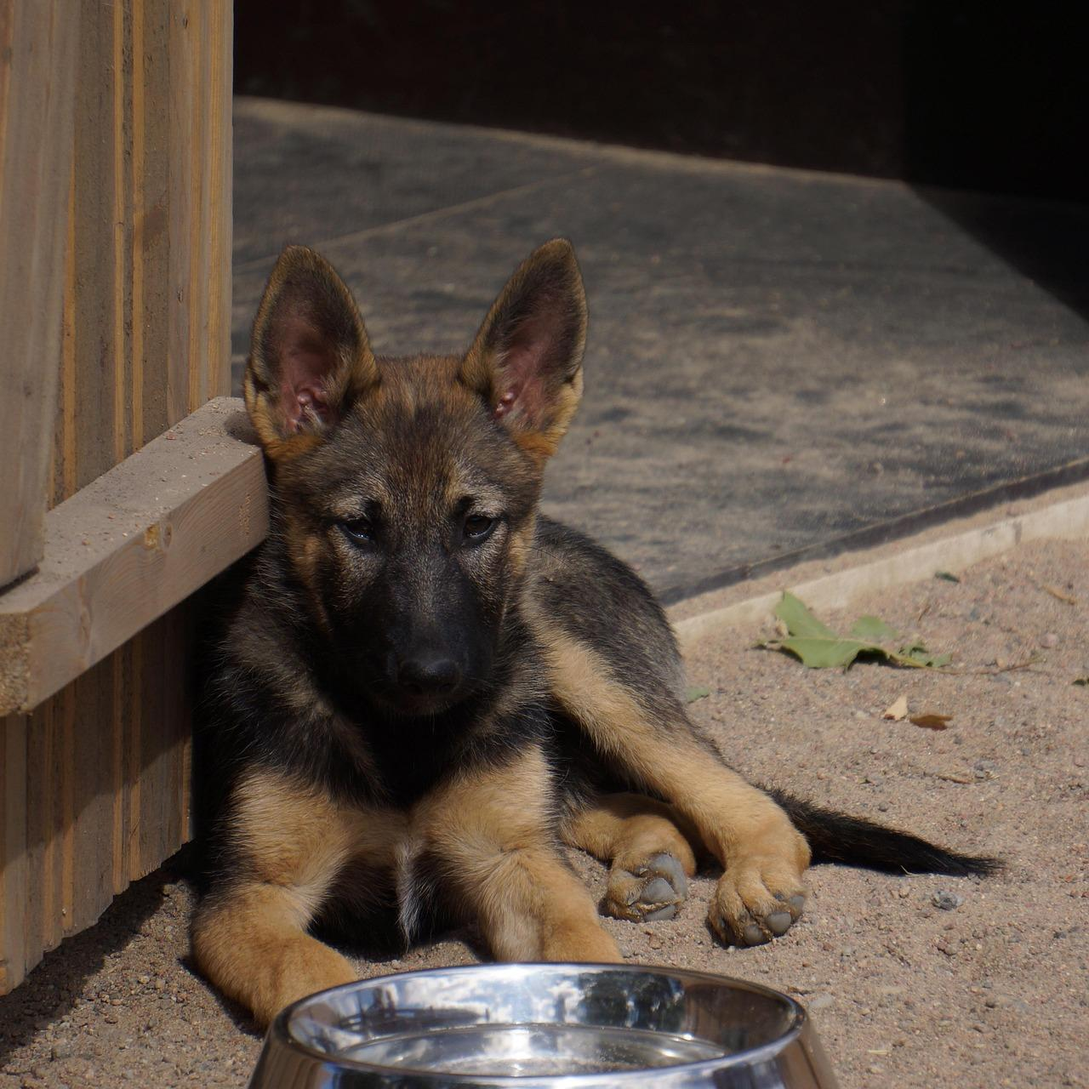german_shepherd: (226, 276, 597, 737)
